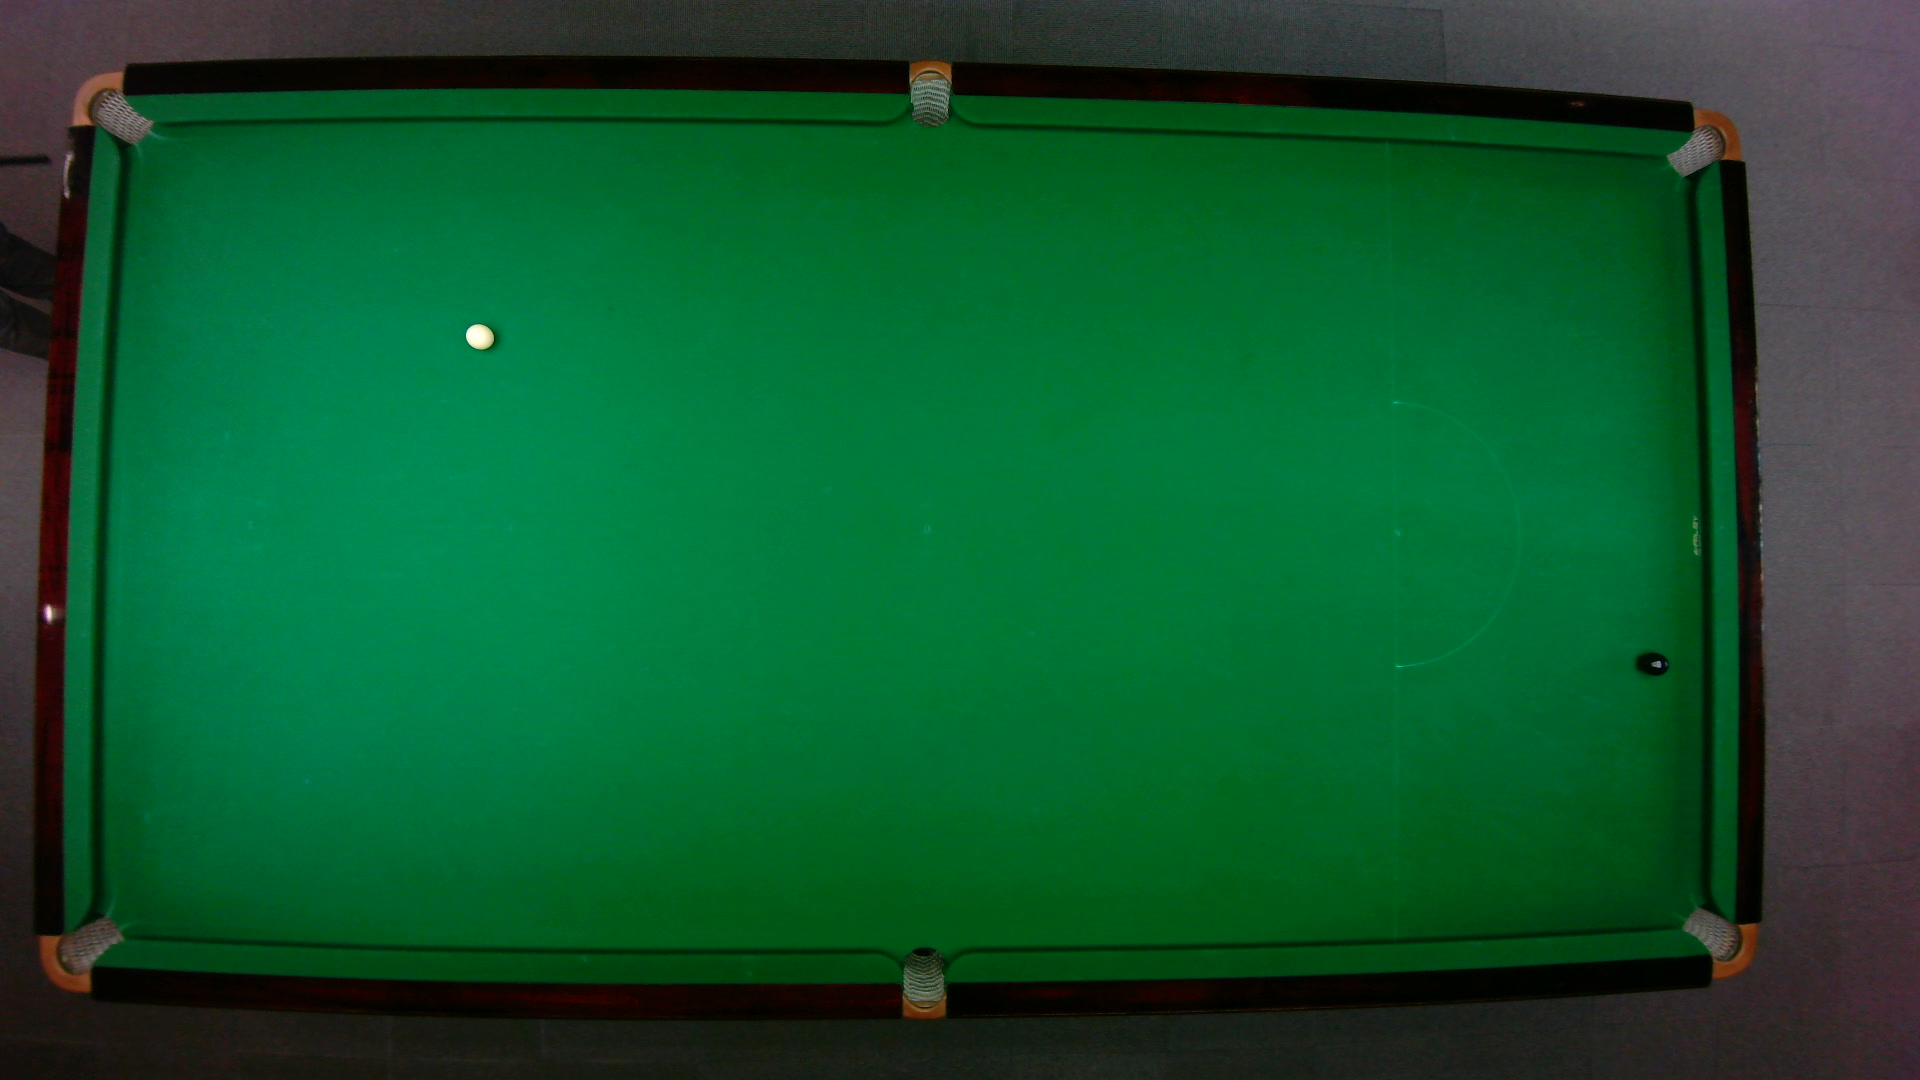bag: (37, 914, 125, 992), (69, 69, 153, 145), (1677, 905, 1756, 978), (1664, 107, 1741, 178), (901, 945, 945, 1021), (909, 59, 953, 131)
black: (1638, 650, 1671, 676)
white: (464, 322, 496, 352)
zone: (1391, 400, 1520, 669)
